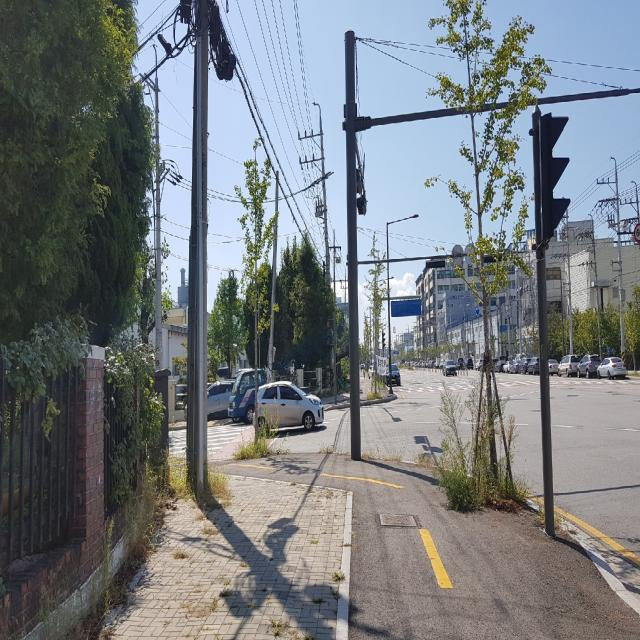횡단보도: (168, 424, 254, 454)
